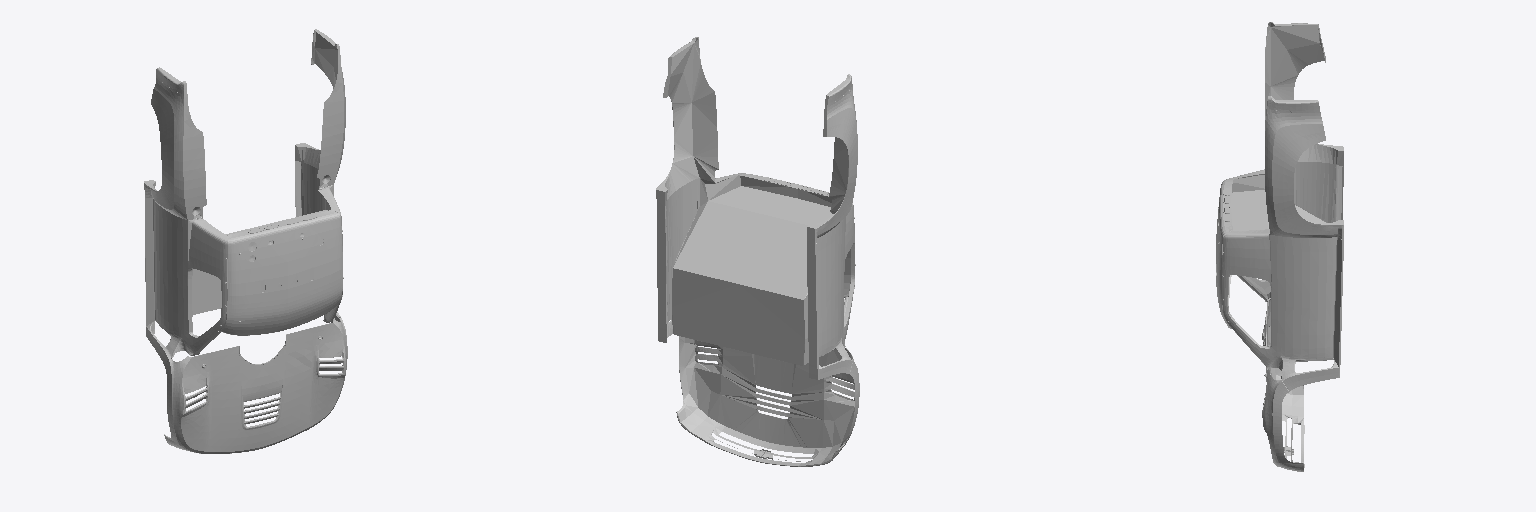
File: truck_testfour.obj
3 views of the same model, side by side, from view 1: azimuth 30°, elevation 25°; view 2: azimuth 150°, elevation 25°; view 3: azimuth 270°, elevation 25° (orthographic).
Visible parts, largest first — view 1: obj1; view 2: obj1; view 3: obj1.
Part boxes in pixels (x1,y1,x2,y2): obj1: (144, 29, 347, 453); obj1: (656, 37, 859, 466); obj1: (1216, 22, 1343, 471).
Size of the model in its own units: 2.49 by 5.3 by 1.57.